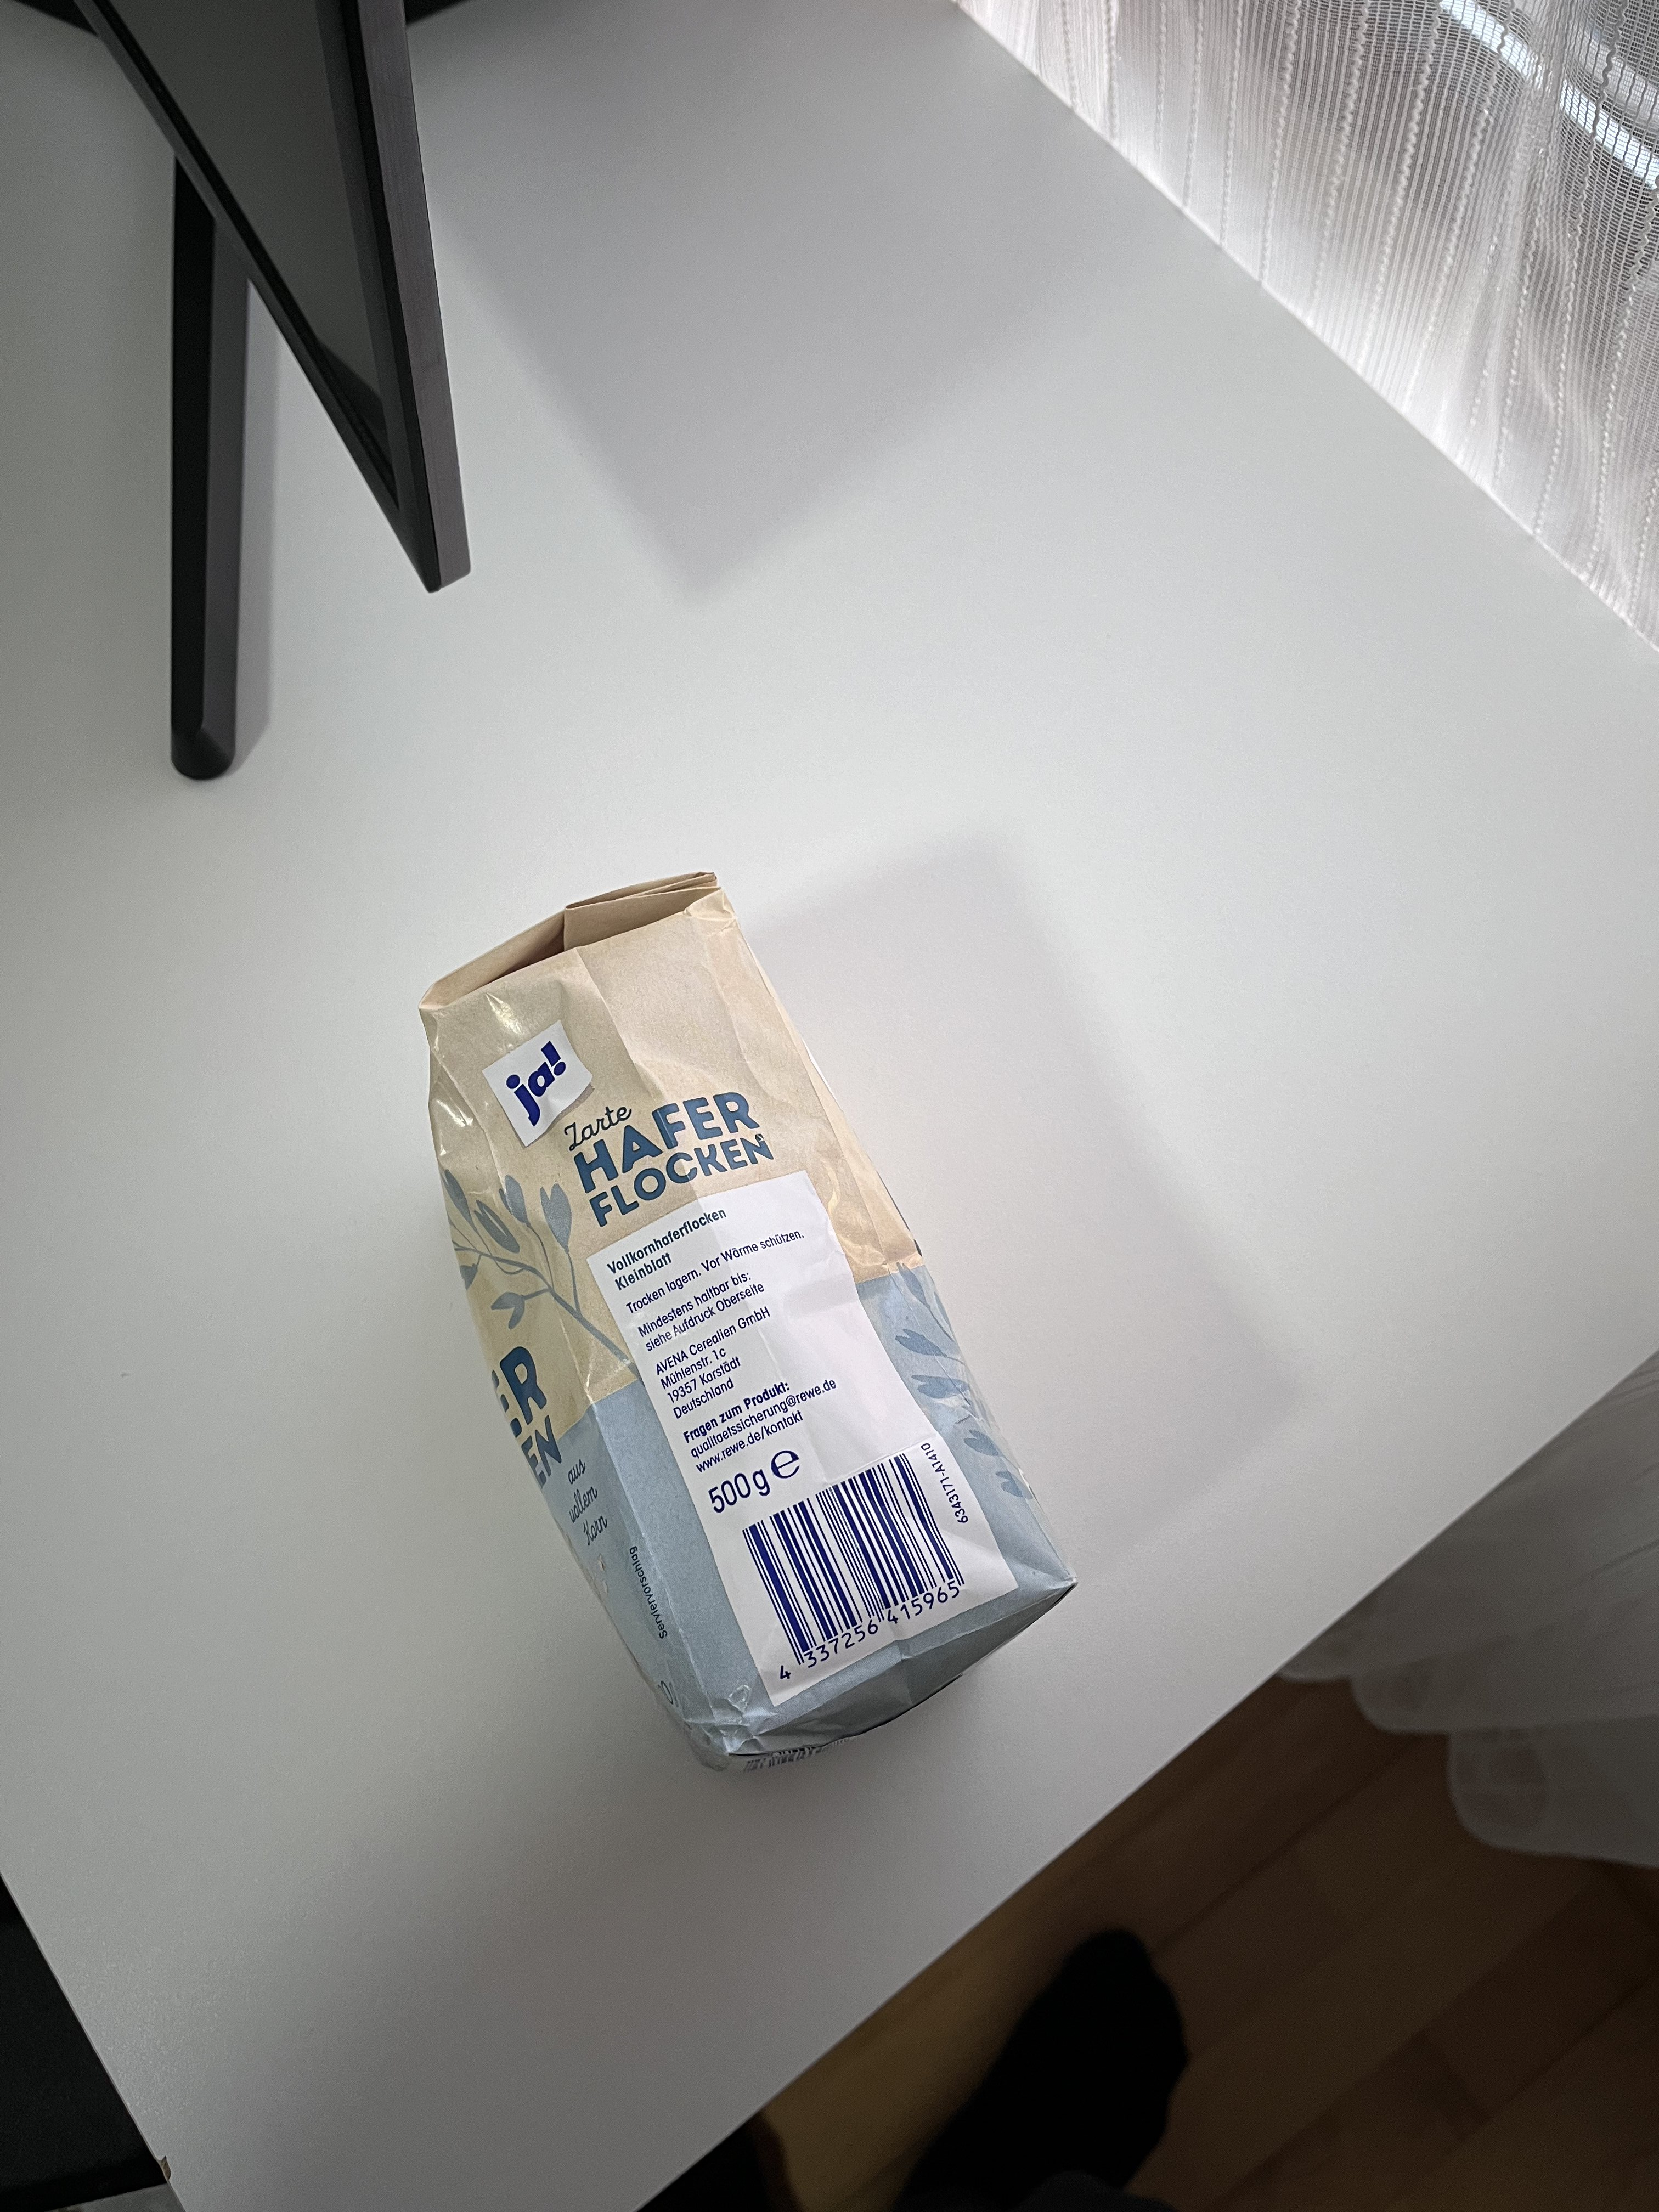haferflocken_ja: (418, 869, 1073, 1768)
